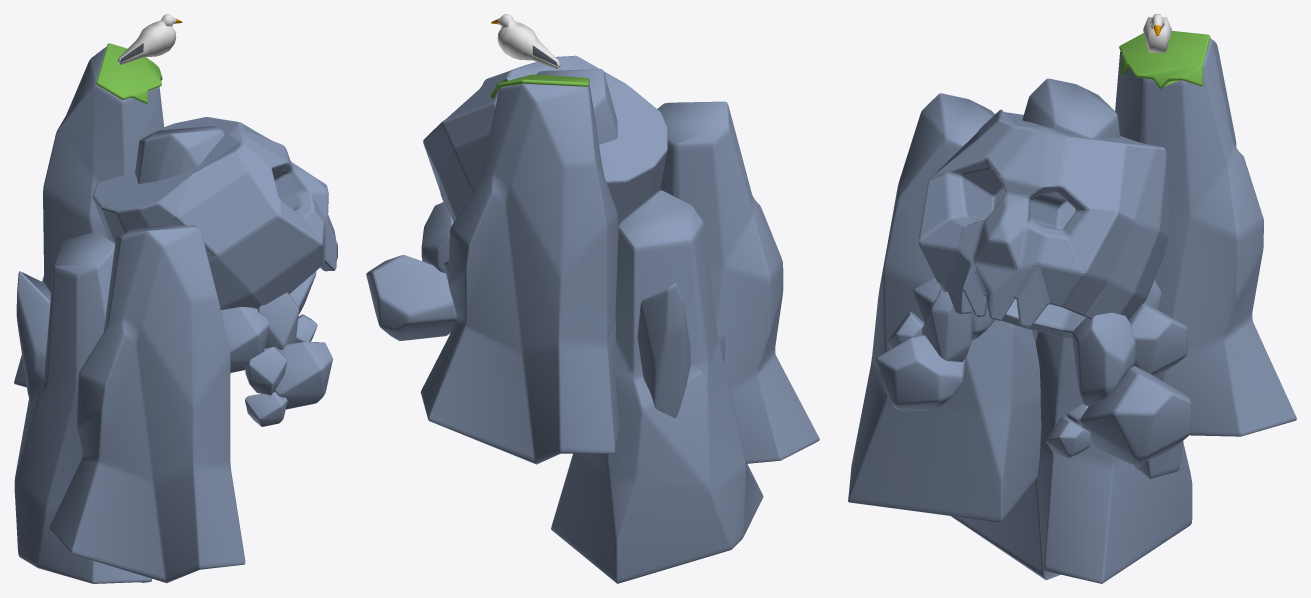
File: skull.fbx
3 views of the same model, side by side, from view 1: azimuth 30°, elevation 25°; view 2: azimuth 150°, elevation 25°; view 3: azimuth 270°, elevation 25° (orthographic). The views are drawn at different scales.
Visible parts, largest first — view 1: Cube.019, Cube.058, Cube.078, Cube.080, Cube.098, Cube.092, Cube.102, Cube.064, Cube.103, Cube.126, Cube.096, Cube.094 (+2 smaller); view 2: Cube.080, Cube.078, Cube.019, Cube.058, Cube.097, Cube.098, Cube.126, Cube.100, Cube.102; view 3: Cube.058, Cube.019, Cube.080, Cube.078, Cube.097, Cube.092, Cube.100, Cube.098, Cube.102, Cube.066, Cube.103, Cube.099 (+3 smaller).
Part boxes in pixels (x1=…): Cube.019: x1=49, y1=225, x2=245, y2=583; Cube.058: x1=92, y1=117, x2=337, y2=309; Cube.078: x1=14, y1=232, x2=151, y2=583; Cube.080: x1=14, y1=47, x2=164, y2=387; Cube.098: x1=135, y1=126, x2=224, y2=183; Cube.092: x1=264, y1=342, x2=332, y2=409; Cube.102: x1=96, y1=43, x2=162, y2=103; Cube.064: x1=221, y1=307, x2=269, y2=372; Cube.103: x1=257, y1=293, x2=298, y2=349; Cube.126: x1=117, y1=14, x2=182, y2=64; Cube.096: x1=245, y1=346, x2=287, y2=395; Cube.094: x1=245, y1=392, x2=287, y2=426; Cube.080: x1=420, y1=83, x2=619, y2=464; Cube.078: x1=551, y1=190, x2=763, y2=583; Cube.019: x1=657, y1=101, x2=819, y2=463; Cube.058: x1=423, y1=55, x2=667, y2=224; Cube.097: x1=366, y1=255, x2=456, y2=340; Cube.098: x1=536, y1=69, x2=617, y2=144; Cube.126: x1=491, y1=14, x2=560, y2=68; Cube.100: x1=421, y1=202, x2=453, y2=273; Cube.102: x1=490, y1=74, x2=589, y2=98; Cube.058: x1=918, y1=109, x2=1169, y2=338; Cube.019: x1=848, y1=93, x2=1041, y2=522; Cube.080: x1=1115, y1=38, x2=1296, y2=478; Cube.078: x1=951, y1=331, x2=1192, y2=583; Cube.097: x1=1080, y1=365, x2=1191, y2=464; Cube.092: x1=876, y1=335, x2=965, y2=410; Cube.100: x1=1072, y1=312, x2=1135, y2=406; Cube.098: x1=1022, y1=78, x2=1120, y2=138; Cube.102: x1=1119, y1=31, x2=1210, y2=88; Cube.066: x1=1129, y1=303, x2=1187, y2=375; Cube.103: x1=921, y1=288, x2=972, y2=361; Cube.099: x1=1046, y1=416, x2=1090, y2=457.
Bounding box in the file's own units: 593 × 896 × 600.
